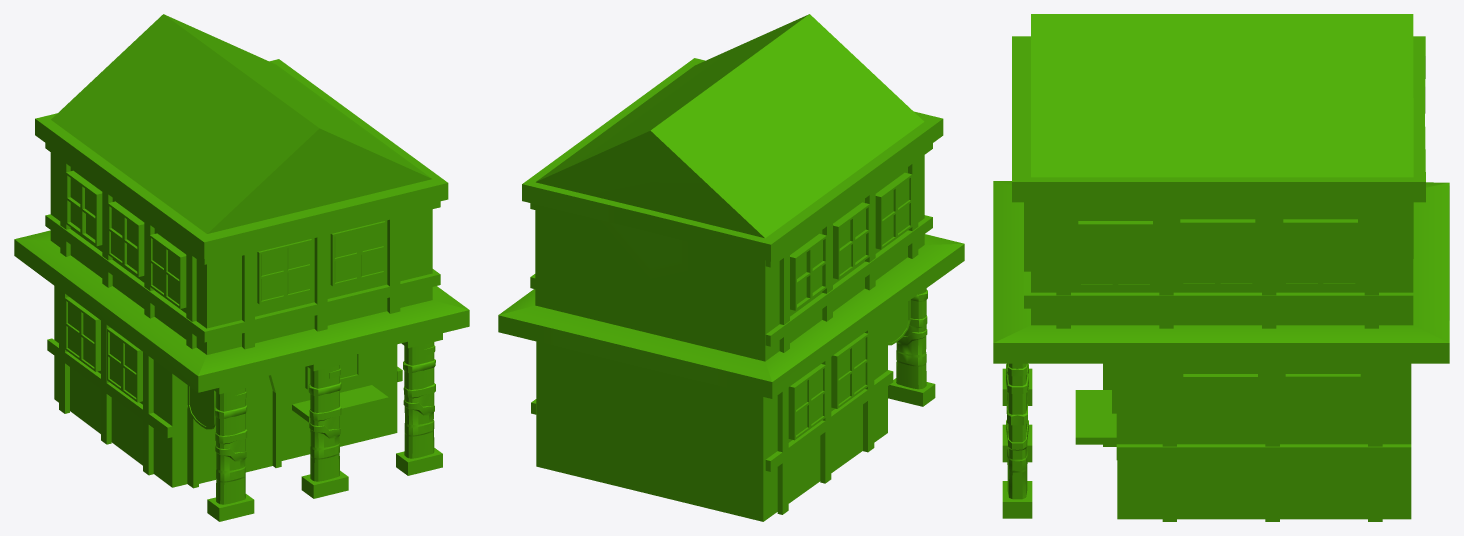
Rendered from JH_Home2.fbx.
3 renders of one model, left to right at view 1: azimuth 30°, elevation 25°; view 2: azimuth 150°, elevation 25°; view 3: azimuth 270°, elevation 25°, orthographic. The views are drawn at different scales.
Parts seen in each view (by area): view 1: Box016; view 2: Box016; view 3: Box016.
Boxes of the visible parts, x1,y1,x2,y2 form: Box016: (14, 14, 469, 521); Box016: (498, 14, 964, 521); Box016: (993, 14, 1449, 521).
Bounding box in the file's own units: 602 × 758 × 715.
